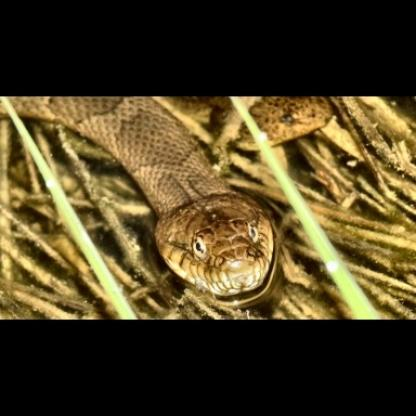Snake: (13, 97, 412, 321)
